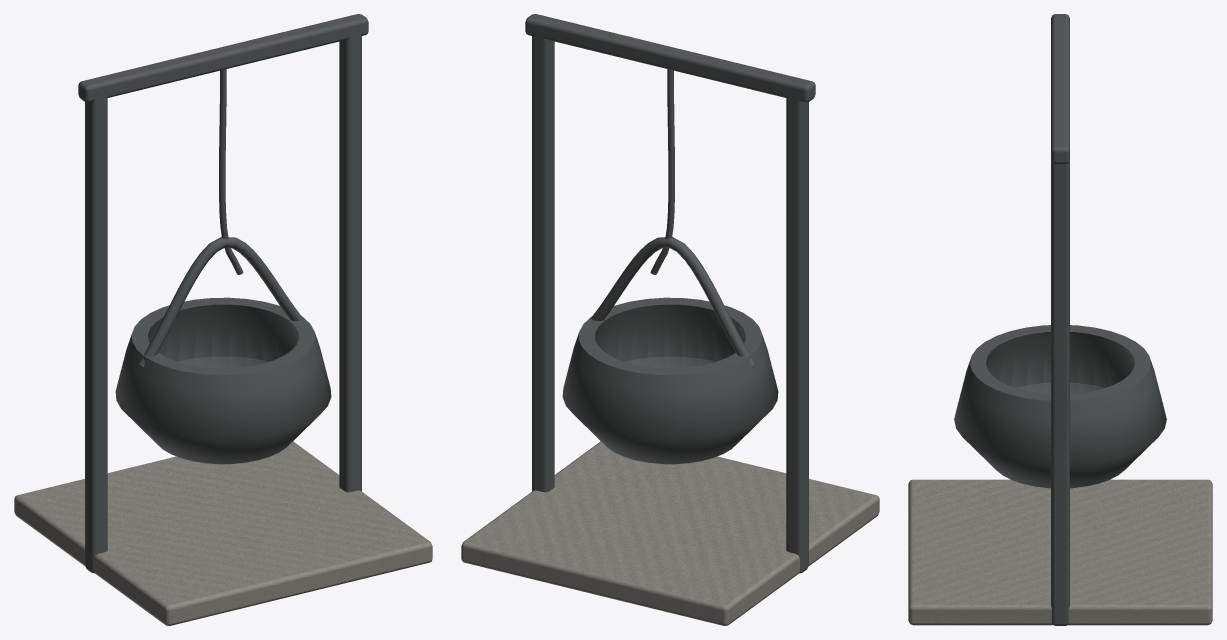
File: adventurers-tavern-and-guild-hall-cauldron-on-hook-704f5793__24723.glb
3 views of the same model, side by side, from view 1: azimuth 30°, elevation 25°; view 2: azimuth 150°, elevation 25°; view 3: azimuth 270°, elevation 25° (orthographic).
Parts seen in each view (by area): view 1: cauldron-on-hook; view 2: cauldron-on-hook; view 3: cauldron-on-hook.
Boxes of the visible parts, <box> form: cauldron-on-hook: <box>14,14,432,625</box>; cauldron-on-hook: <box>461,14,879,625</box>; cauldron-on-hook: <box>908,14,1212,625</box>.
Bounding box in the file's own units: 0.85 × 1.4 × 0.8.
Materials: 2 (1 with a texture image).
